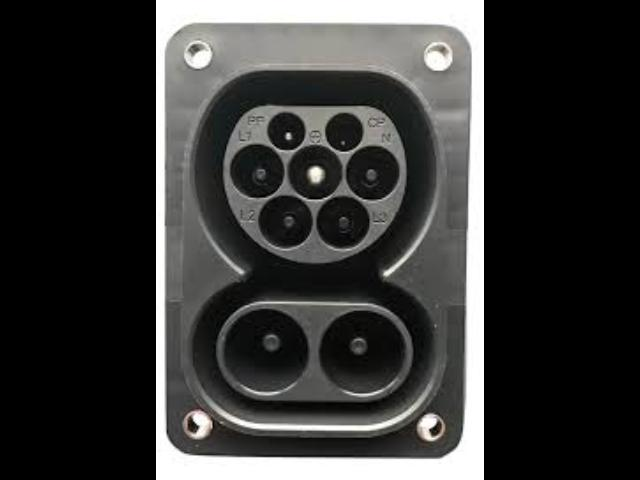inlet: (224, 106, 406, 263)
inlet-above-left: (267, 112, 306, 151)
inlet-above-right: (326, 113, 364, 152)
inlet-below-left: (257, 195, 312, 249)
inlet-below-right: (316, 196, 369, 249)
inlet-circle: (288, 144, 342, 200)
inlet-circle-left: (230, 144, 285, 199)
inlet-circle-right: (346, 145, 399, 200)
inlet-minus: (319, 310, 406, 394)
inlet-plus: (224, 309, 309, 395)
